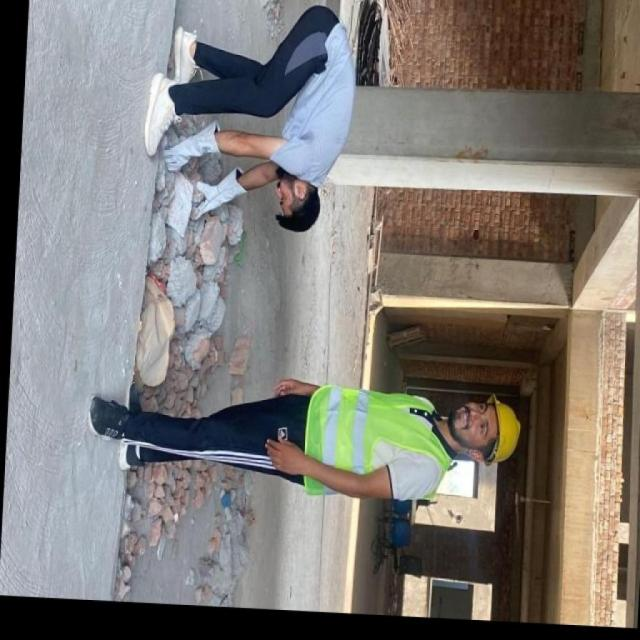Gloves-Detection: (172, 122, 220, 165), (197, 170, 232, 222)
